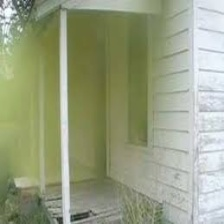smoke: (2, 22, 112, 181)
